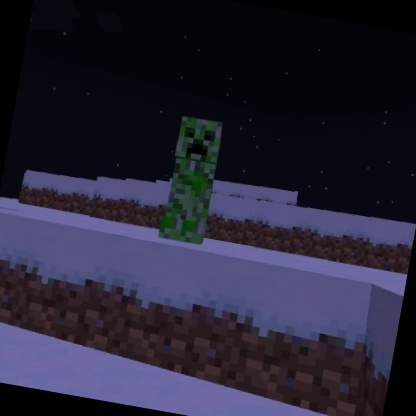creeper: (154, 110, 228, 249)
